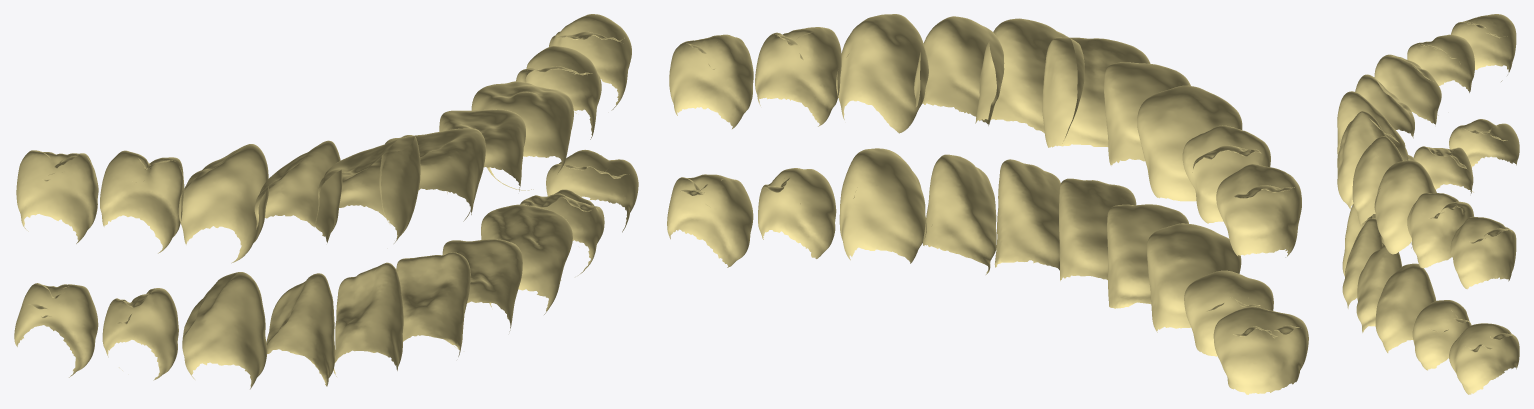
Rendered from gc-anatomical-dental-arch.glb.
The picture shows the model from 3 angles, left to right: view 1: azimuth 30°, elevation 25°; view 2: azimuth 150°, elevation 25°; view 3: azimuth 270°, elevation 25°; orthographic projection. The views are drawn at different scales.
Visible parts, largest first — view 1: tooth_43, tooth_13, tooth_14, tooth_31, tooth_41, tooth_15, tooth_11, tooth_33, tooth_12, tooth_42, tooth_23, tooth_21 (+8 smaller); view 2: tooth_33, tooth_23, tooth_11, tooth_13, tooth_45, tooth_21, tooth_15, tooth_32, tooth_24, tooth_31, tooth_43, tooth_25 (+8 smaller); view 3: tooth_25, tooth_35, tooth_23, tooth_33, tooth_24, tooth_34, tooth_13, tooth_14, tooth_15, tooth_45, tooth_22, tooth_21 (+6 smaller).
Part boxes in pixels (bbox=[...]): tooth_43: bbox=[182, 272, 267, 389]; tooth_13: bbox=[178, 144, 268, 263]; tooth_14: bbox=[100, 150, 184, 253]; tooth_31: bbox=[396, 252, 470, 356]; tooth_41: bbox=[333, 262, 403, 376]; tooth_15: bbox=[16, 150, 98, 243]; tooth_11: bbox=[314, 135, 420, 243]; tooth_33: bbox=[481, 204, 572, 314]; tooth_12: bbox=[254, 140, 342, 242]; tooth_42: bbox=[266, 273, 334, 386]; tooth_23: bbox=[471, 81, 573, 190]; tooth_21: bbox=[379, 128, 485, 223]; tooth_33: bbox=[839, 148, 926, 263]; tooth_23: bbox=[836, 14, 928, 133]; tooth_11: bbox=[1042, 37, 1150, 147]; tooth_13: bbox=[1137, 85, 1242, 201]; tooth_45: bbox=[1213, 306, 1308, 394]; tooth_21: bbox=[975, 18, 1084, 137]; tooth_15: bbox=[1216, 164, 1301, 257]; tooth_32: bbox=[923, 154, 996, 274]; tooth_24: bbox=[755, 27, 841, 126]; tooth_31: bbox=[994, 159, 1060, 270]; tooth_43: bbox=[1147, 223, 1241, 332]; tooth_25: bbox=[669, 34, 753, 128]; tooth_25: bbox=[1450, 216, 1516, 289]; tooth_35: bbox=[1449, 323, 1519, 394]; tooth_23: bbox=[1374, 160, 1436, 254]; tooth_33: bbox=[1375, 263, 1436, 352]; tooth_24: bbox=[1407, 193, 1473, 267]; tooth_34: bbox=[1412, 300, 1471, 370]; tooth_13: bbox=[1374, 54, 1441, 124]; tooth_14: bbox=[1407, 34, 1474, 115]; tooth_15: bbox=[1451, 14, 1516, 81]; tooth_45: bbox=[1449, 119, 1519, 192]; tooth_22: bbox=[1352, 136, 1403, 225]; tooth_21: bbox=[1337, 111, 1403, 209].
Bounding box in the file's own units: 52.23 × 19.66 × 17.16.
